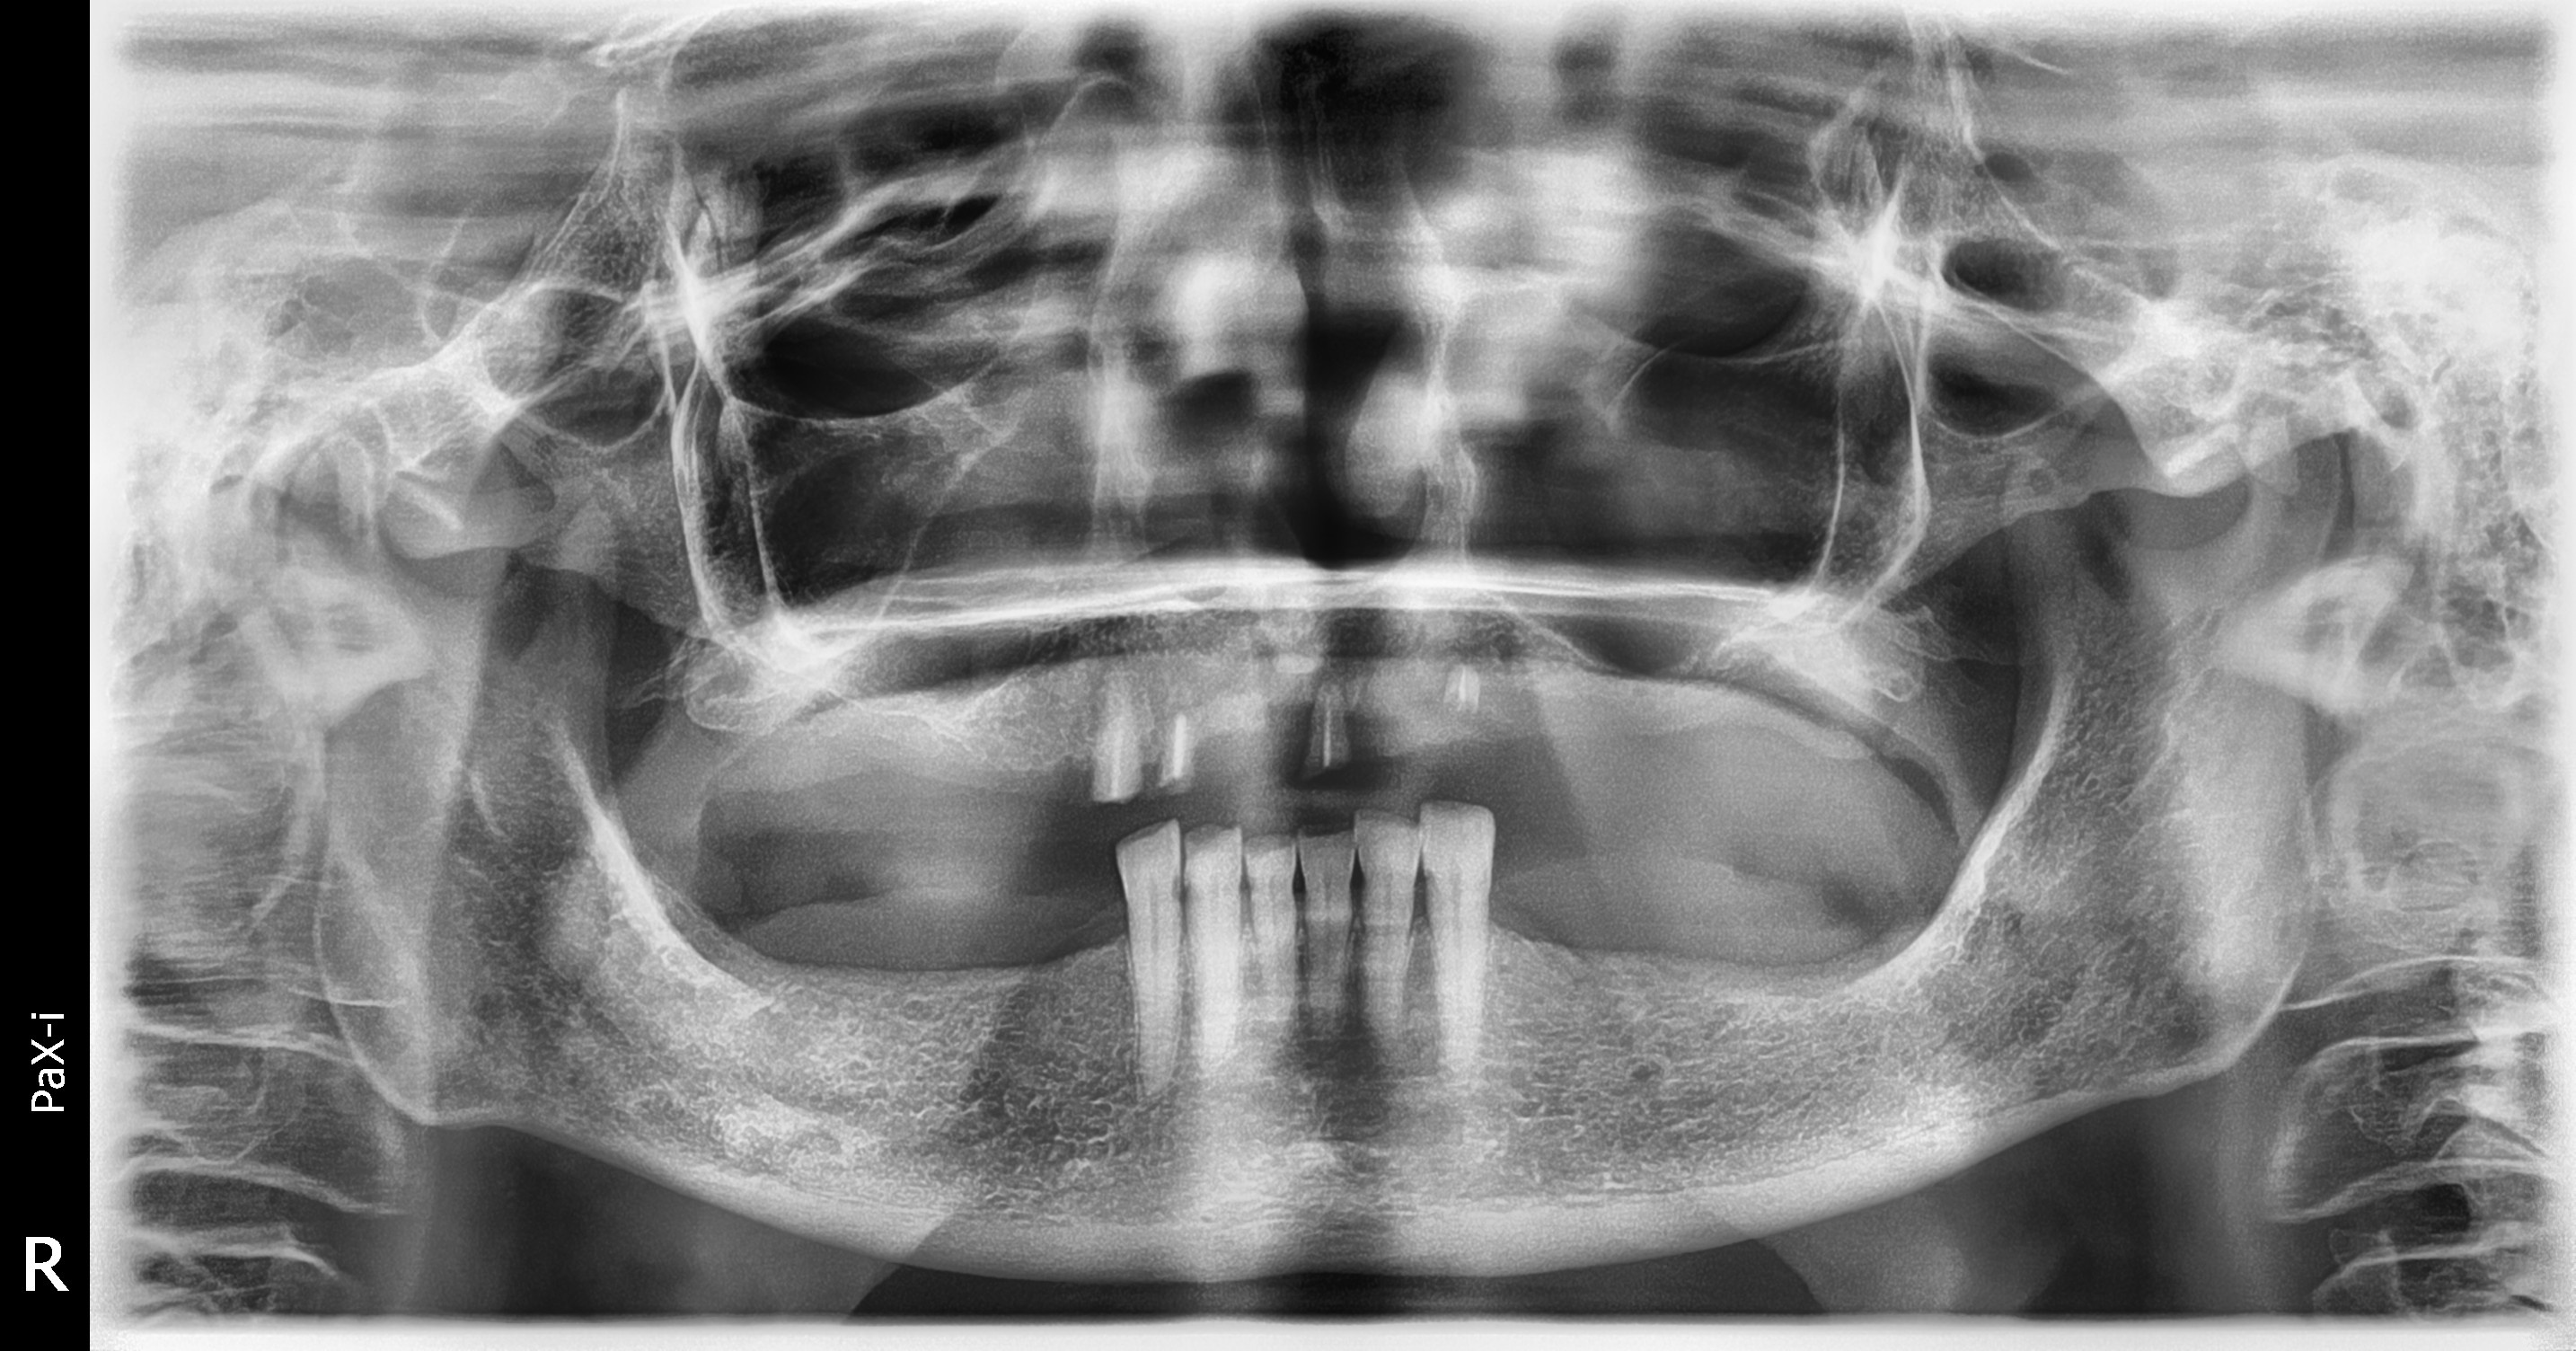BON: (676, 402, 2121, 1334), (649, 411, 2021, 1349), (622, 421, 1941, 1349), (608, 419, 1862, 1351), (567, 423, 1768, 1351), (537, 414, 1678, 1351)
CAR: (569, 412, 1784, 1331), (559, 409, 1750, 1320)
ROT: (670, 293, 2176, 1019), (605, 276, 1968, 1065), (540, 286, 1748, 1089), (494, 239, 1647, 1061)
